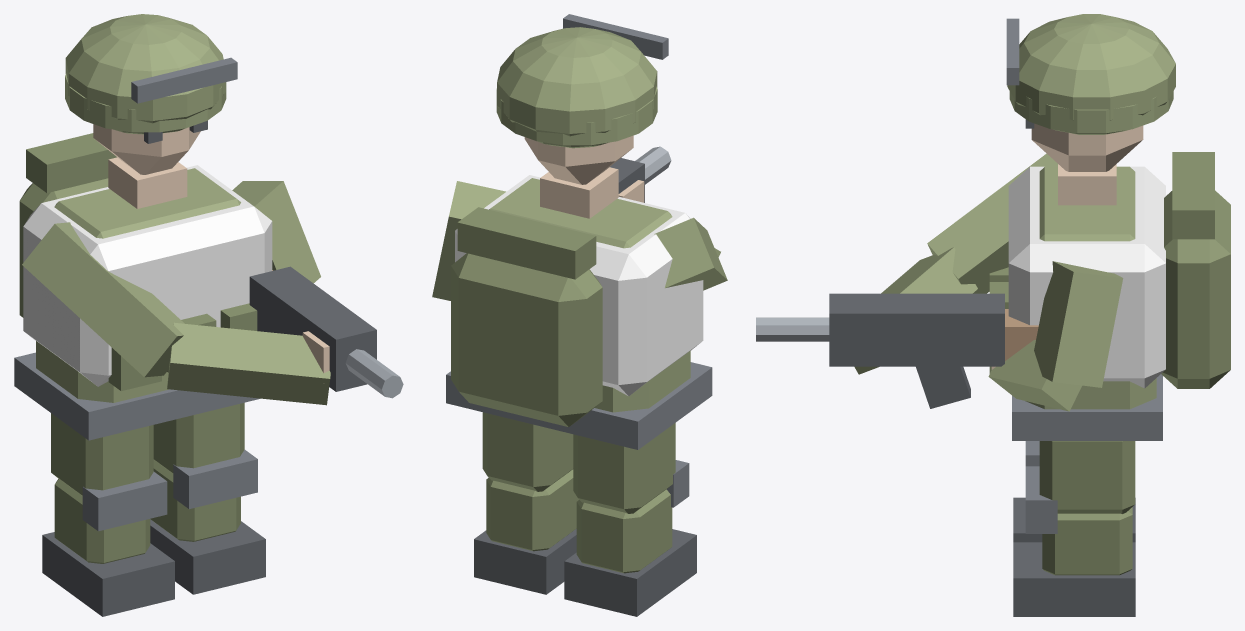
Rendered from soldier.glb.
3 views of the same model, side by side, from view 1: azimuth 30°, elevation 25°; view 2: azimuth 150°, elevation 25°; view 3: azimuth 270°, elevation 25° (orthographic).
Parts seen in each view (by area): view 1: main, shinl, shinr, legl, legr; view 2: main, shinl, shinr, legl, legr; view 3: main, shinr, legr, shinl.
Boxes of the visible parts, x1,y1,x2,y2 form: main: [14, 14, 403, 440]; shinl: [42, 471, 174, 616]; shinr: [150, 449, 265, 594]; legl: [51, 413, 153, 495]; legr: [153, 402, 244, 473]; main: [432, 14, 727, 449]; shinl: [564, 460, 696, 616]; shinr: [474, 469, 579, 594]; legl: [573, 423, 675, 513]; legr: [482, 412, 573, 491]; main: [756, 14, 1230, 440]; shinr: [1013, 466, 1135, 616]; legr: [1039, 441, 1135, 513]; shinl: [1013, 441, 1135, 542].
Size of the model in its own units: 0.3161 by 0.5733 by 0.4465.
